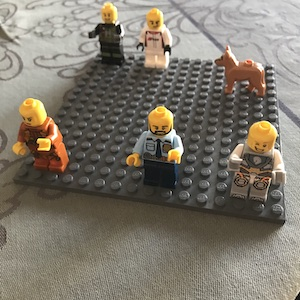Lego: (224, 121, 286, 202), (128, 104, 186, 190), (12, 98, 72, 175), (90, 1, 128, 66), (136, 7, 173, 71)
